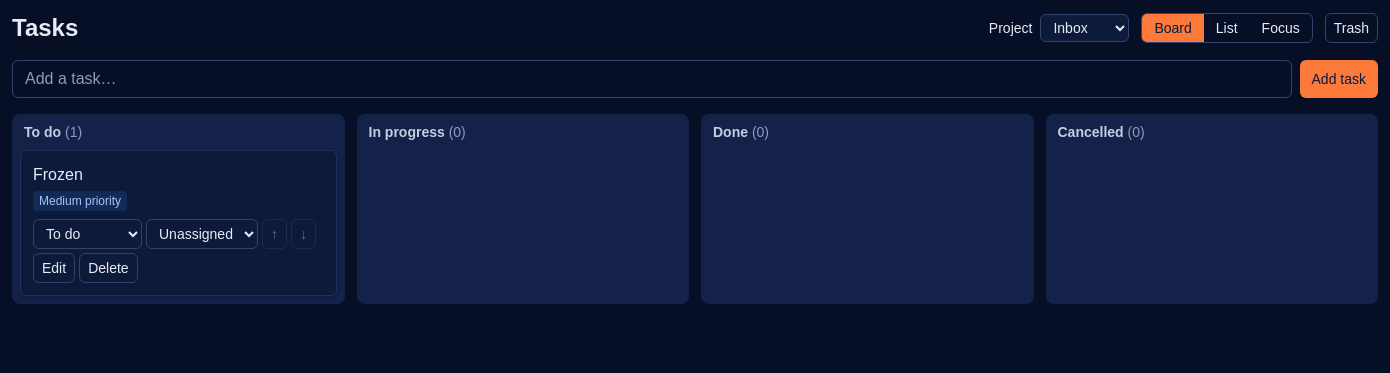
Test: when something goes wrong › explains a refused change without reloading
Expected: the heading "Frozen" is shown, [33, 166, 83, 183]
Step 1. Select "Done" in the dropdown named "Status of Frozen" → (88, 234), box [33, 219, 142, 249]
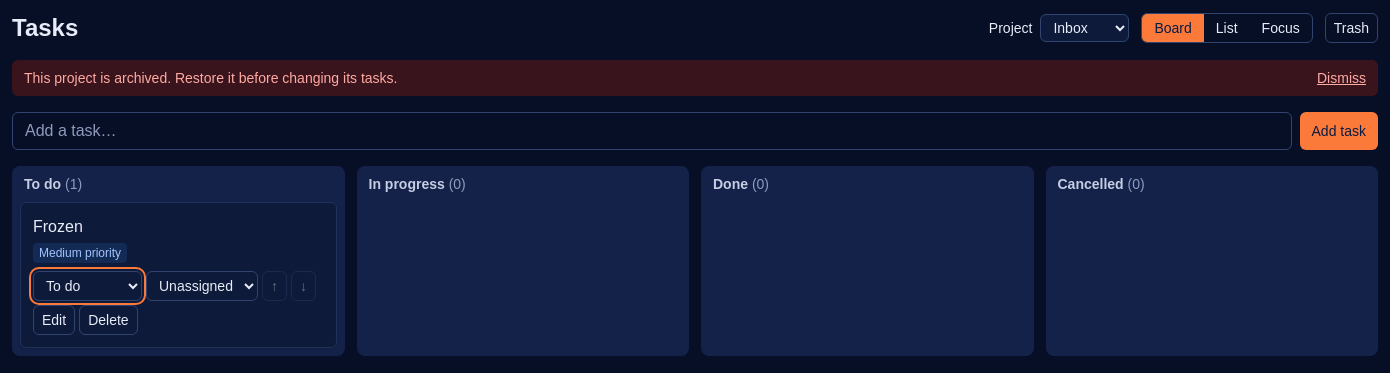
Result: the text "This project is archived. Restore it before changing its tasks. Dismiss" is shown at [12, 60, 1378, 96]
